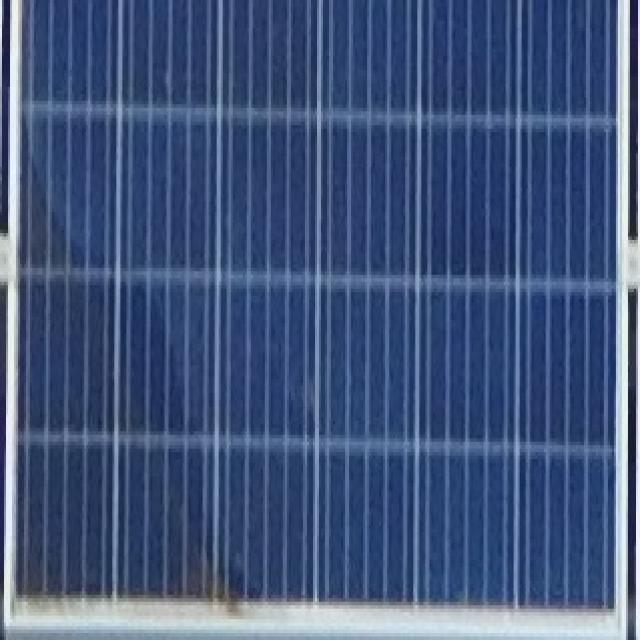Dust: (16, 113, 253, 634)
